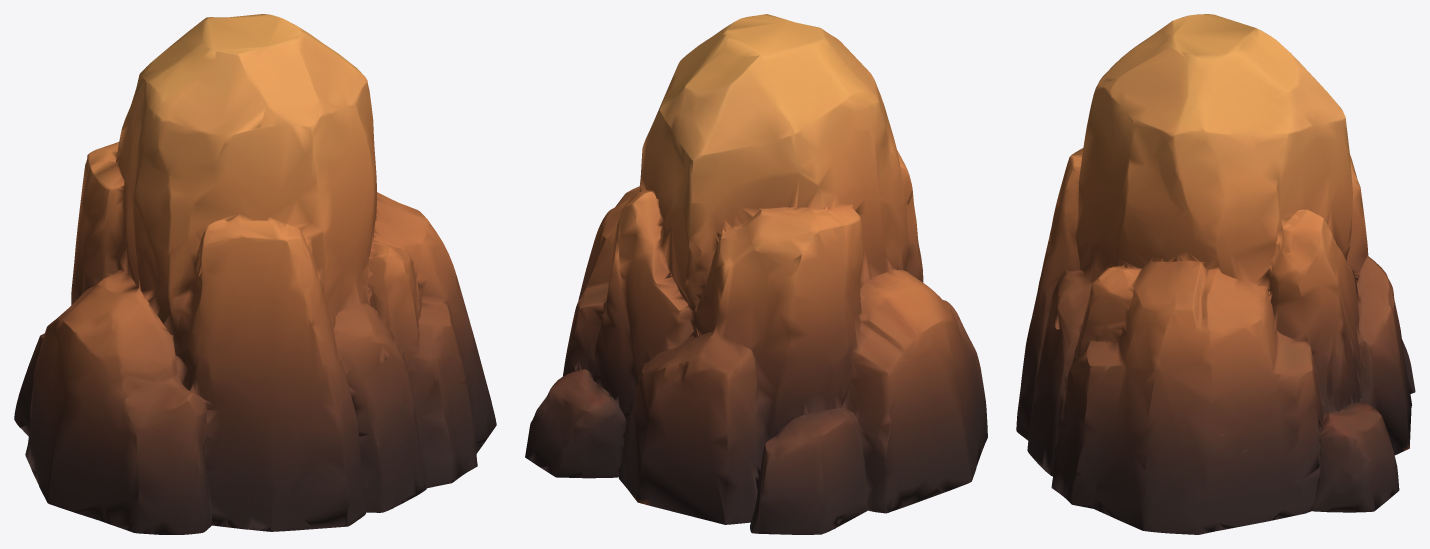
3 renders of one model, left to right at view 1: azimuth 30°, elevation 25°; view 2: azimuth 150°, elevation 25°; view 3: azimuth 270°, elevation 25°, orthographic. The views are drawn at different scales.
Parts seen in each view (by area): view 1: Mesh_0.001; view 2: Mesh_0.001; view 3: Mesh_0.001.
Boxes of the visible parts, x1,y1,x2,y2 form: Mesh_0.001: (14, 14, 496, 534); Mesh_0.001: (525, 14, 987, 534); Mesh_0.001: (1016, 14, 1415, 534).
Size of the model in its own units: 5.32 by 5 by 4.55.
1 material, 1 textured.
